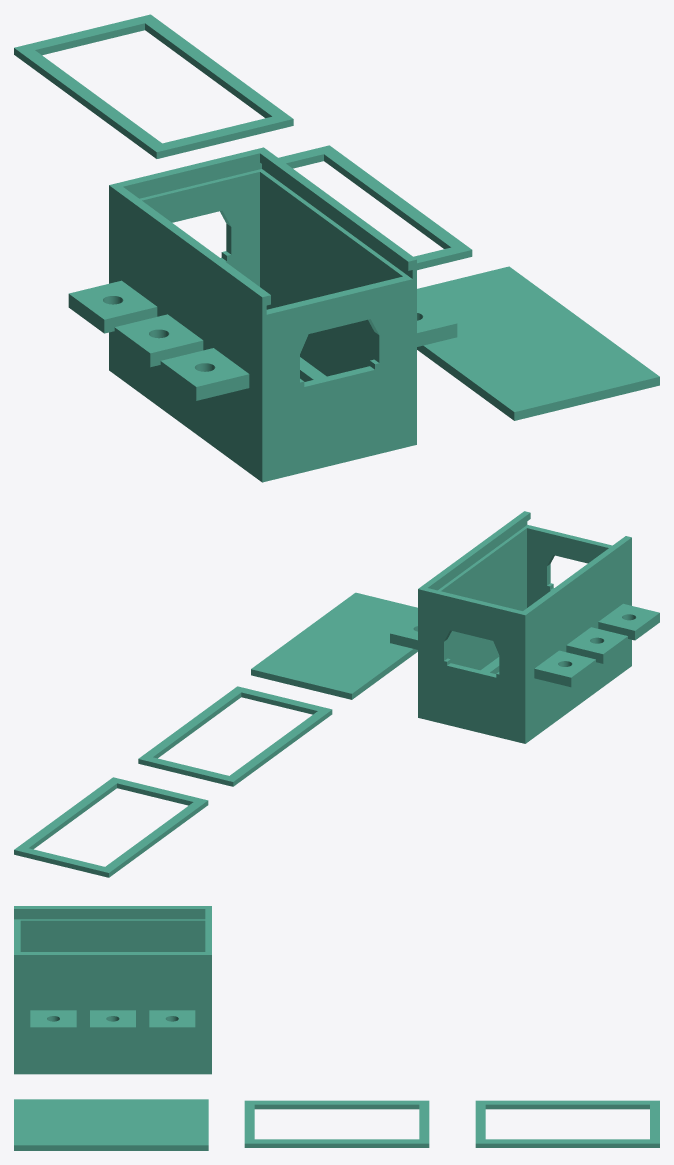
Rendered from colmeia-caixa.glb.
The picture shows the model from 3 angles, top to bottom: view 1: azimuth 30°, elevation 25°; view 2: azimuth 150°, elevation 25°; view 3: azimuth 270°, elevation 25°; orthographic projection. The views are drawn at different scales.
Parts seen in each view (by area): view 1: colmeia-caixa; view 2: colmeia-caixa; view 3: colmeia-caixa.
Part boxes in pixels (<box>): colmeia-caixa: <box>14,14,659,482</box>; colmeia-caixa: <box>14,511,659,877</box>; colmeia-caixa: <box>14,906,659,1150</box>.
Size of the model in its own units: 0.1019 by 0.04 by 0.1959.
